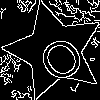O: (29, 25, 89, 86)
